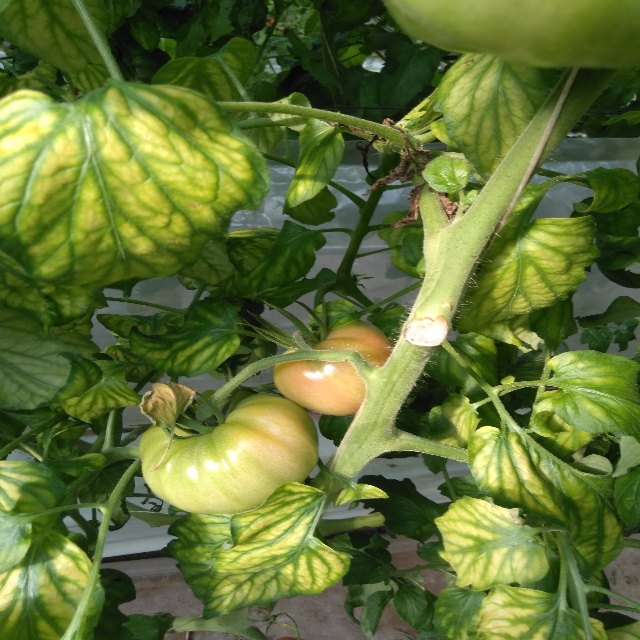b_green: (139, 392, 320, 515), (382, 0, 639, 68)
b_half_ripened: (274, 320, 395, 416)
